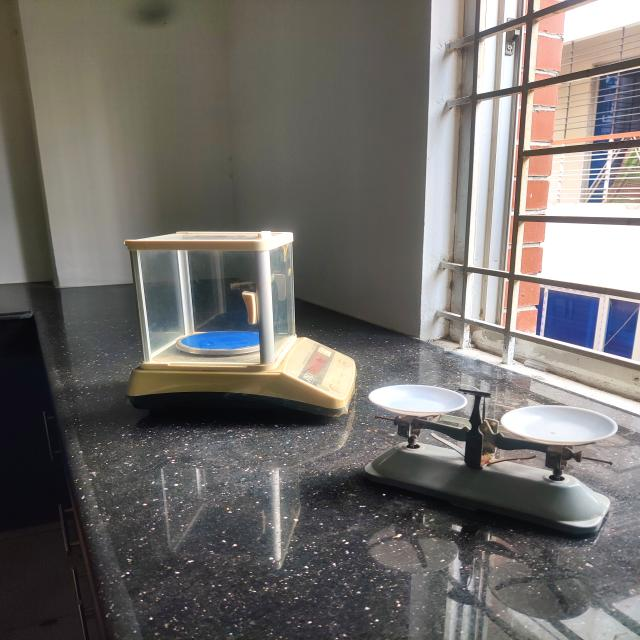Mechanical_Balance_Scale: (352, 344, 636, 581)
Precision_Weight_Scale: (92, 214, 371, 432)
